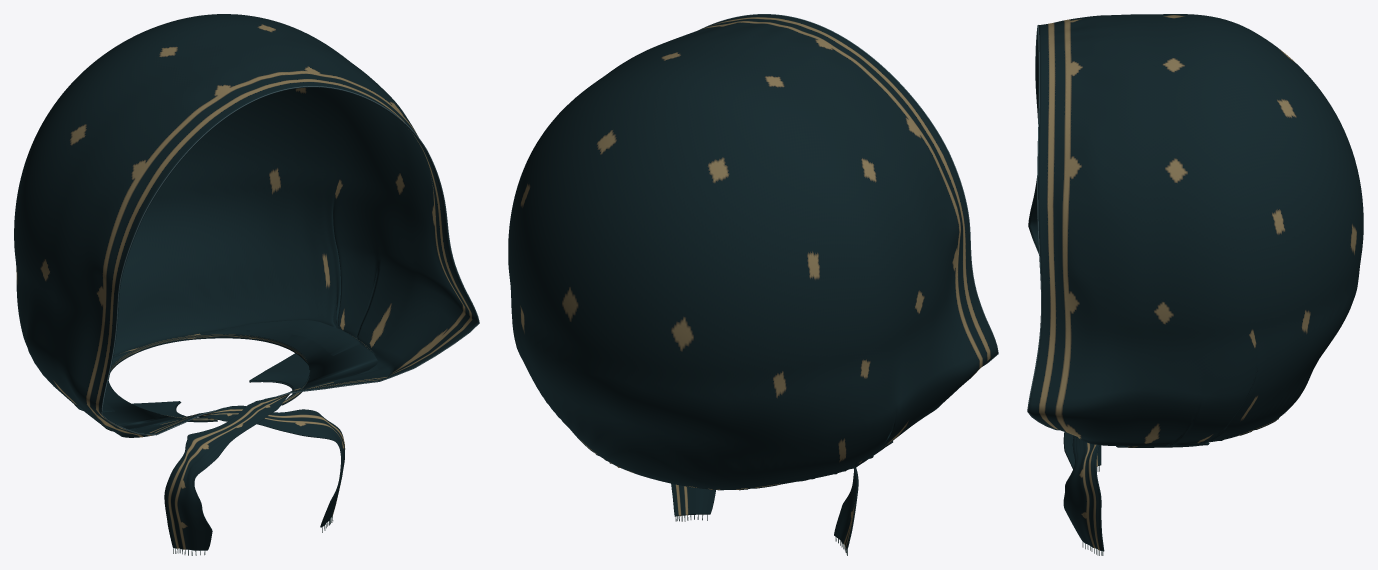
The model's file is Feminine-Feminine-straight-tank-pashmina250-headgear-648ef9c3.glb.
The picture shows the model from 3 angles, left to right: view 1: azimuth 30°, elevation 25°; view 2: azimuth 150°, elevation 25°; view 3: azimuth 270°, elevation 25°; orthographic projection. The views are drawn at different scales.
Visible parts, largest first — view 1: 226 headgear / Headwear / continuous woven pashmina239, 226 headgear / Headwear / face edge239; view 2: 226 headgear / Headwear / continuous woven pashmina239, 226 headgear / Headwear / face edge239; view 3: 226 headgear / Headwear / continuous woven pashmina239, 226 headgear / Headwear / face edge239.
Boxes of the visible parts, left/top/right/bottom form: 226 headgear / Headwear / continuous woven pashmina239: left=14, top=14, right=479, bottom=550; 226 headgear / Headwear / face edge239: left=101, top=86, right=479, bottom=435; 226 headgear / Headwear / continuous woven pashmina239: left=508, top=14, right=997, bottom=549; 226 headgear / Headwear / face edge239: left=699, top=14, right=998, bottom=365; 226 headgear / Headwear / continuous woven pashmina239: left=1028, top=14, right=1363, bottom=551; 226 headgear / Headwear / face edge239: left=1027, top=25, right=1058, bottom=430.
Size of the model in its own units: 1.17 by 1.42 by 0.8899.
3 materials, 1 textured.
